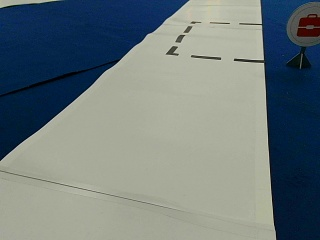company: (286, 2, 320, 45)
